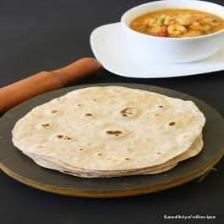sabzi: (128, 8, 224, 39)
